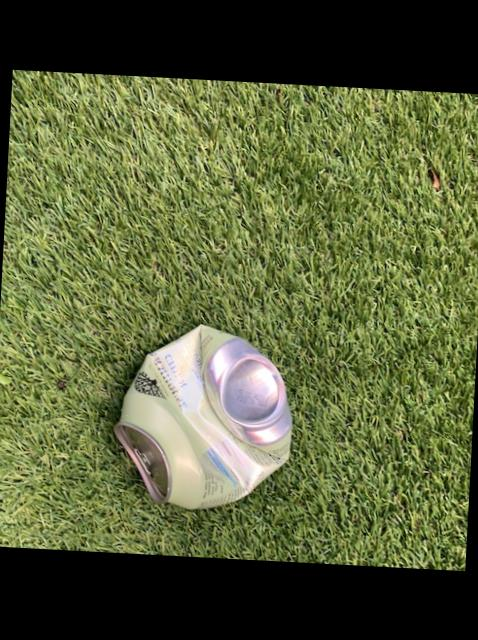metal: (116, 326, 293, 509)
